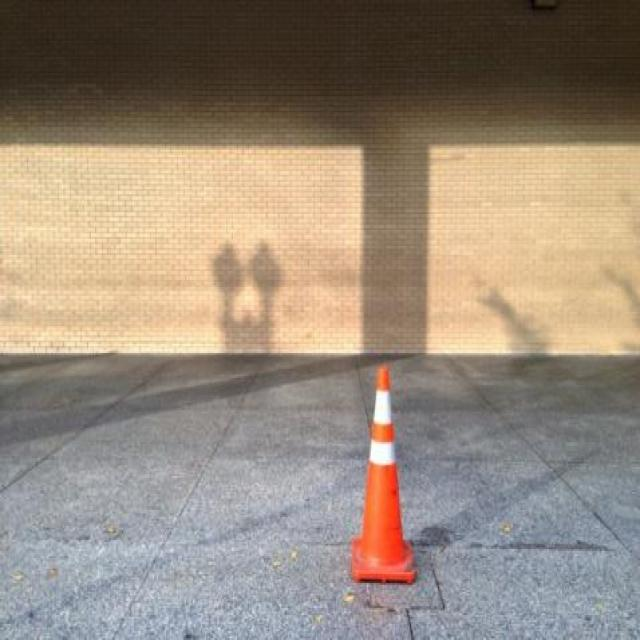Cone: (351, 362, 416, 585)
